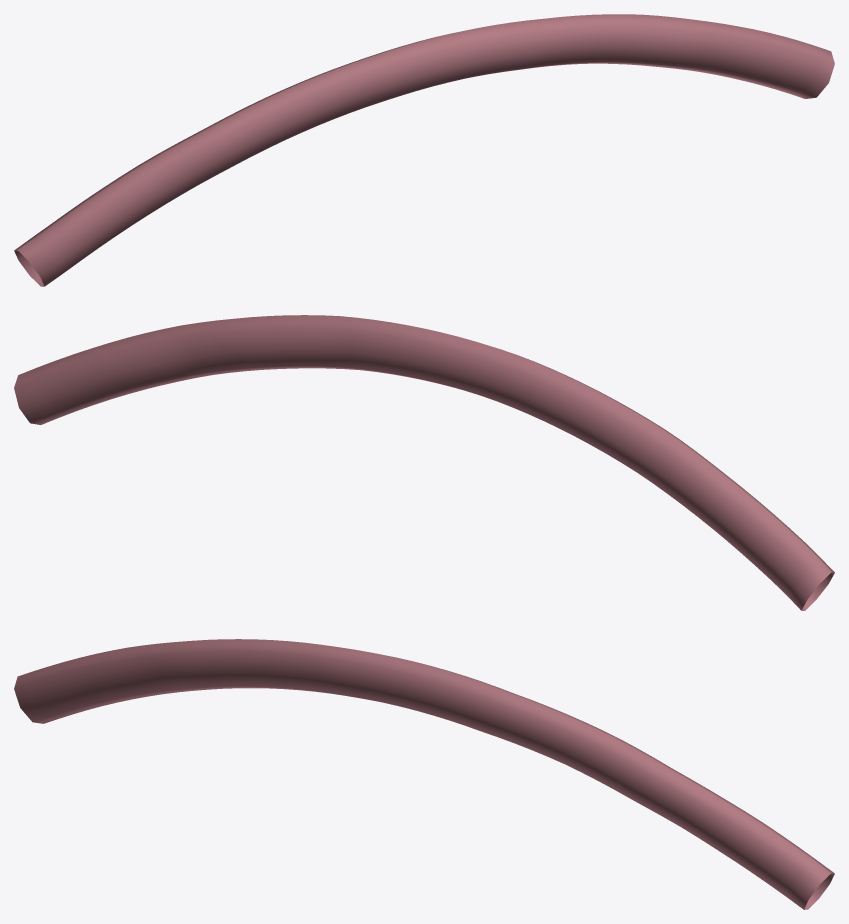
3 views of the same model, one above another, from view 1: azimuth 30°, elevation 25°; view 2: azimuth 150°, elevation 25°; view 3: azimuth 330°, elevation 25° (orthographic).
Visible parts, largest first — view 1: Mouth_Lip; view 2: Mouth_Lip; view 3: Mouth_Lip.
Boxes of the visible parts, bbox=[...] form: Mouth_Lip: bbox=[14, 14, 834, 286]; Mouth_Lip: bbox=[14, 315, 834, 610]; Mouth_Lip: bbox=[14, 639, 834, 909].
Bounding box in the file's own units: 0.0886 × 0.0178 × 0.00741.
